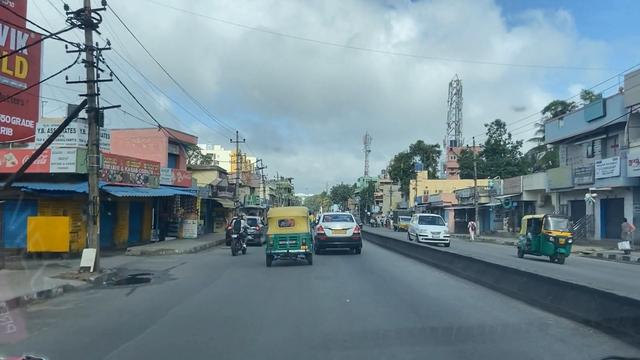LMV: (263, 207, 312, 265), (314, 213, 368, 257)
